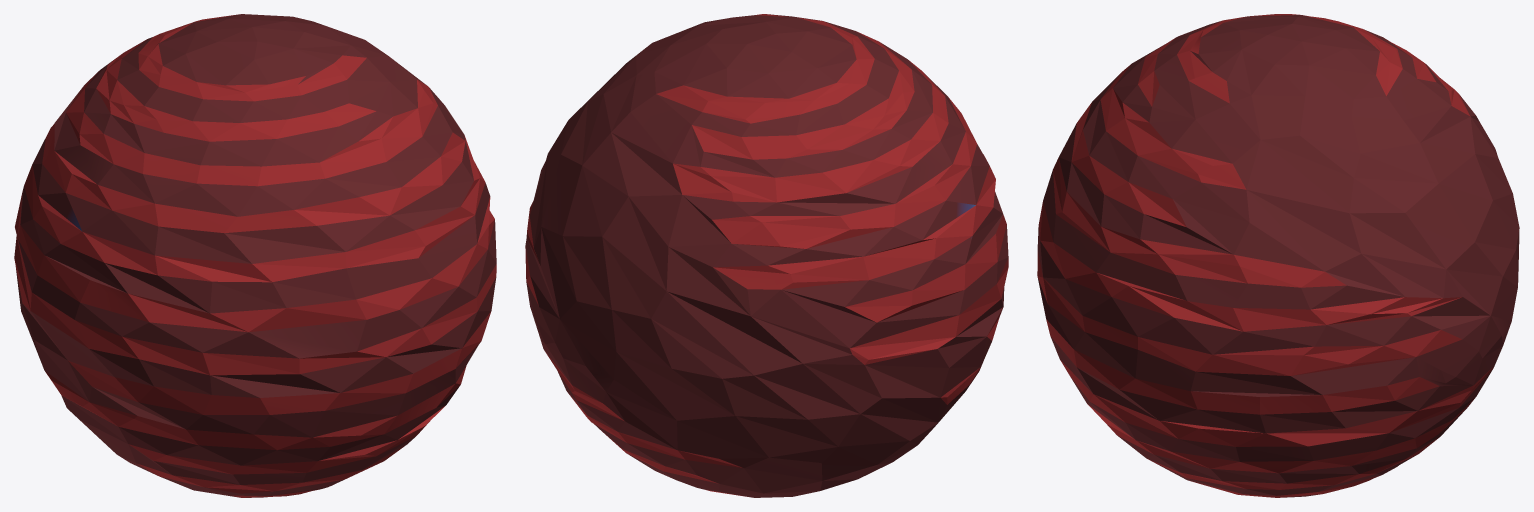
The model's file is Red_Planet_01.fbx.
3 renders of one model, left to right at view 1: azimuth 30°, elevation 25°; view 2: azimuth 150°, elevation 25°; view 3: azimuth 270°, elevation 25°, orthographic.
Visible parts, largest first — view 1: Red_Planet_01; view 2: Red_Planet_01; view 3: Red_Planet_01.
Boxes of the visible parts, x1,y1,x2,y2 form: Red_Planet_01: (14,14,496,497); Red_Planet_01: (525,14,1008,497); Red_Planet_01: (1037,14,1519,497).
Size of the model in its own units: 18148 by 18222 by 18164.
Materials: 1 (1 with a texture image).
